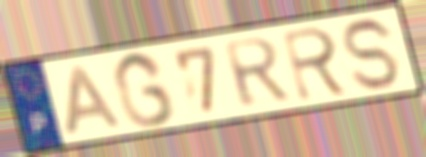7: (170, 43, 217, 116)
A: (63, 63, 125, 138)
G: (110, 49, 179, 130)
R: (279, 23, 353, 104), (220, 35, 294, 111)
S: (341, 16, 404, 94)
